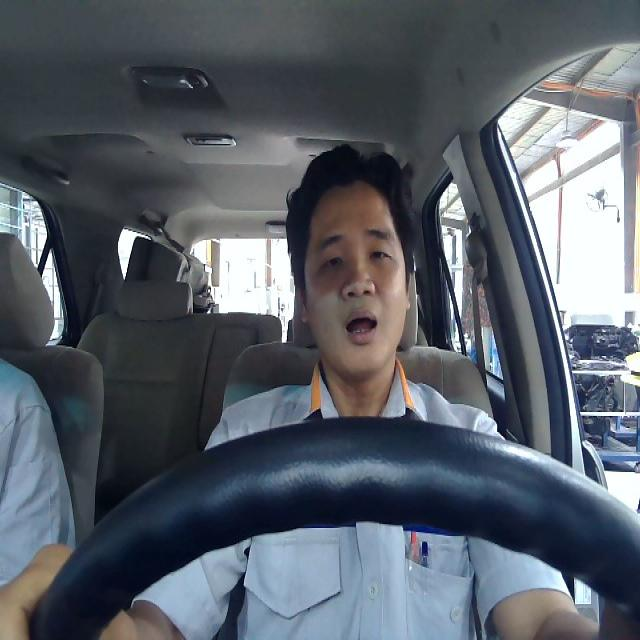yarning: (295, 179, 413, 380)
